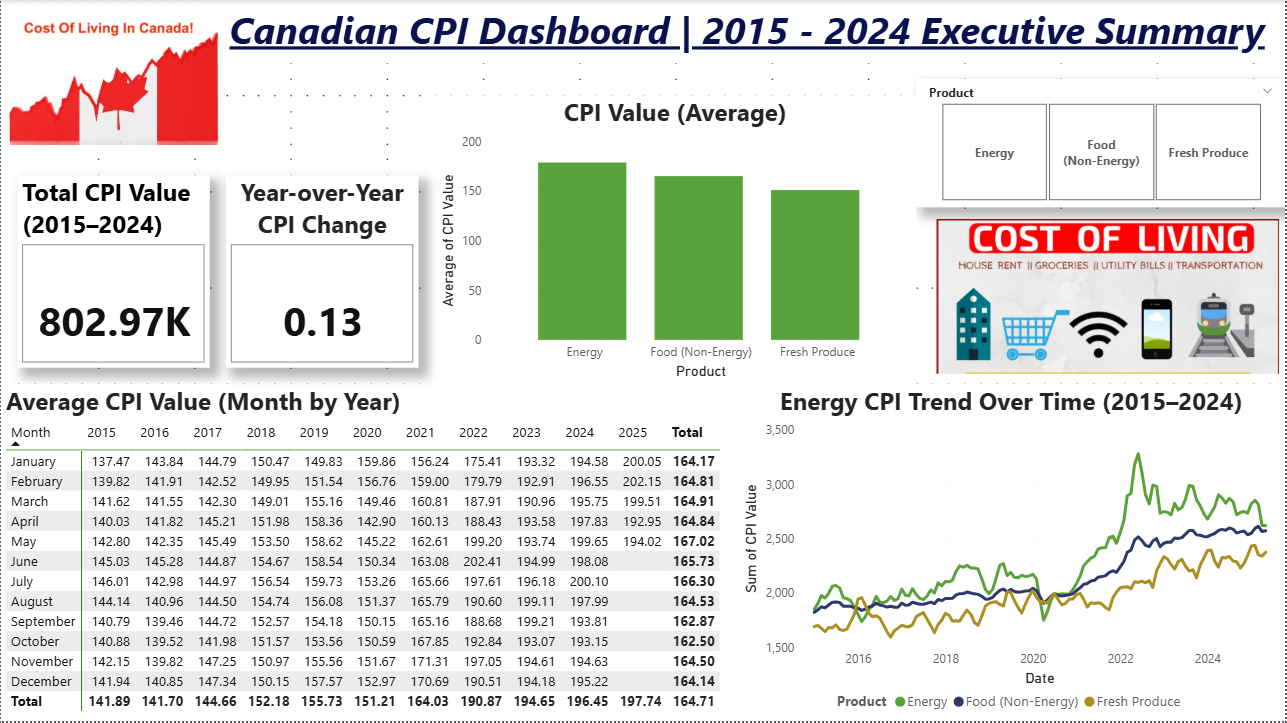

The page's visual inventory and layout, read from the dashboard file:
{"tool":"powerbi","page":{"name":"Executive Summary","canvas":[1280,720],"ordinal":0},"visuals":[{"type":"lineChart","title":"Energy CPI Trend Over Time (2015–2024)","fields":{"Category":["cpi_cleaned.Date.Variation.Date Hierarchy.Year"],"Y":["Sum(cpi_cleaned.CPI_Value)"],"Series":["cpi_cleaned.Product"]},"box":[736,384,544,336],"z":0},{"type":"slicer","fields":{"Values":["cpi_cleaned.Product"]},"box":[912,80,368,128],"z":1000},{"type":"cardVisual","title":"Total CPI Value (2015–2024)","fields":{"Data":["Sum(cpi_cleaned.CPI_Value)"]},"box":[16,176,192,192],"z":2000},{"type":"clusteredColumnChart","title":"CPI Value (Average)","fields":{"Category":["cpi_cleaned.Product"],"Y":["Avg(cpi_cleaned.CPI_Value)"]},"box":[432,96,480,288],"z":3000},{"type":"pivotTable","title":"Average CPI Value (Month by Year)","fields":{"Rows":["Calendar.Month"],"Values":["Avg(cpi_cleaned.CPI_Value)"],"Columns":["Calendar.Year"]},"box":[0,384,736,336],"z":4000},{"type":"cardVisual","title":"Year-over-Year CPI Change","fields":{"Data":["Calendar.YoY Change (%)"]},"box":[224,176,192,192],"z":5000},{"type":"textbox","box":[208,0,1072,64],"z":6000},{"type":"image","box":[0,0,224,160],"z":7000},{"type":"image","box":[928,208,352,176],"z":8000}]}

Visuals, with their boxes in screenshot pixels (x1, y1, x2, y2), scaled from the page's 1280x720 canvas onto the 1287x723 screenshot:
"Energy CPI Trend Over Time (2015–2024)" lineChart: [left=740, top=386, right=1286, bottom=722]
slicer - cpi_cleaned.Product: [left=917, top=80, right=1286, bottom=209]
"Total CPI Value (2015–2024)" cardVisual: [left=16, top=177, right=209, bottom=370]
"CPI Value (Average)" clusteredColumnChart: [left=434, top=96, right=917, bottom=386]
"Average CPI Value (Month by Year)" pivotTable: [left=0, top=386, right=740, bottom=722]
"Year-over-Year CPI Change" cardVisual: [left=225, top=177, right=418, bottom=370]
textbox: [left=209, top=0, right=1286, bottom=64]
image: [left=0, top=0, right=225, bottom=161]
image: [left=933, top=209, right=1286, bottom=386]
